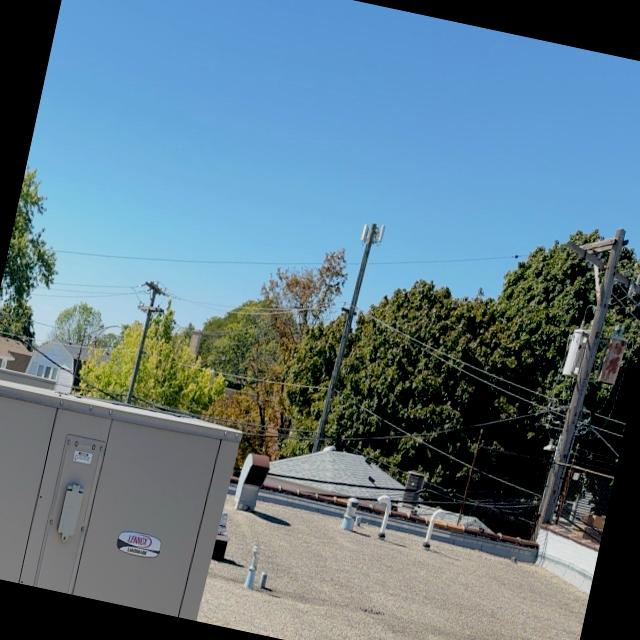GRAVITY-VENT: (232, 442, 272, 512), (362, 486, 400, 546), (417, 498, 451, 562), (332, 484, 365, 534)
RTU: (0, 353, 249, 622)
